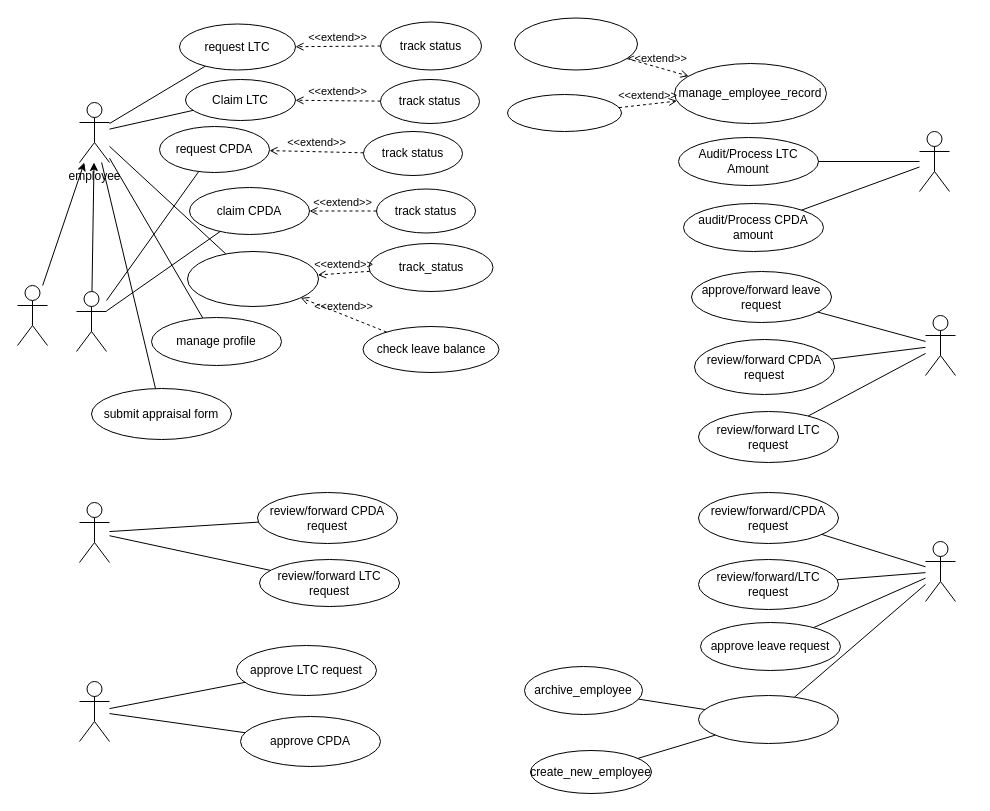
This 990x811 diagram has some shape labels left out. The box of each missing label's shape, as (x1, y1, x2, y2) in pixels:
acct admin: (918, 130, 950, 192)
Director: (78, 502, 110, 562)
faculty: (76, 290, 106, 352)
HR admin: (924, 540, 956, 602)
manage employee: (698, 694, 838, 744)
manage_increment: (514, 17, 638, 70)
manage_perks: (506, 94, 622, 132)
registrar: (78, 680, 110, 742)
section/dept head: (924, 314, 956, 376)
staff: (16, 284, 48, 346)
submit Leave request: (186, 250, 318, 306)
